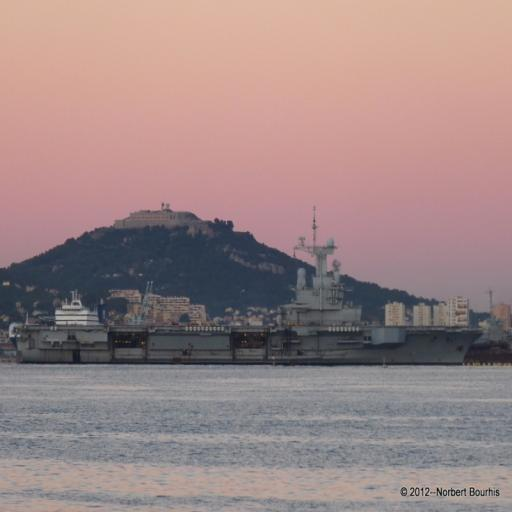Portanaves: (6, 202, 482, 371)
